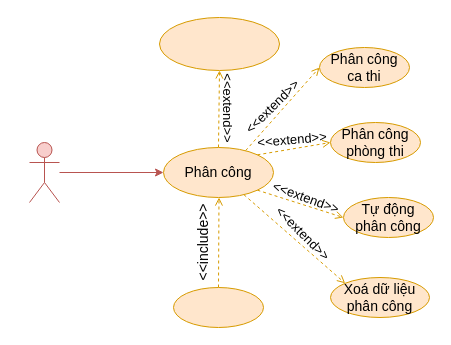
Image size: 451x345. Some labels were removed from this diagram. The shapes that lost their labels are listed below. From the top down, each one's centre as x and y in pixels, then its label:
At point 219,43: "Xuất danh sách phân công".
At point 44,172: "Quản trị hệ thống".
At point 218,307: "Đăng nhập".
